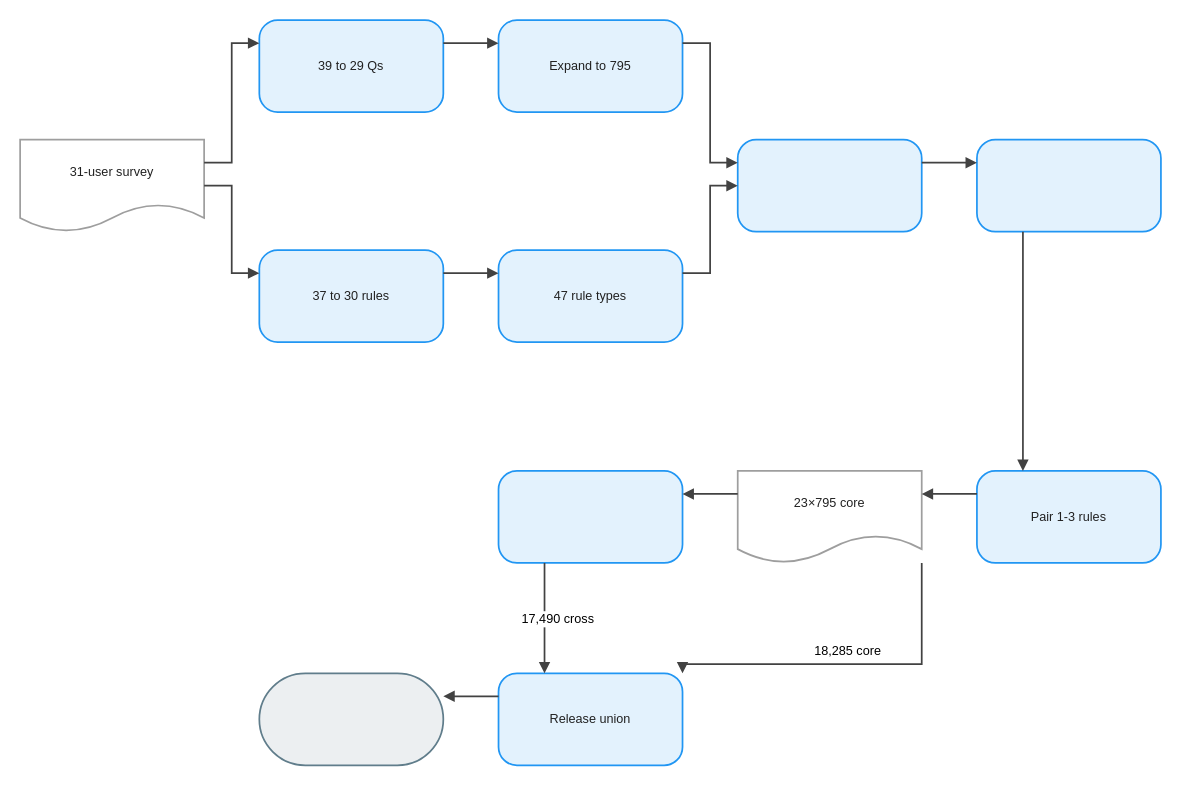
Image size: 1182x787. Some labels were removed from this diagram. The shapes that lost their labels are listed below. From the top down, each one's box as (x1, y1, x2, y2) in pixels, then its label:
(736, 138, 922, 232): 23-lang pass
(976, 138, 1161, 232): 3-round QC
(497, 470, 683, 563): 22×795 cross
(258, 672, 444, 766): 35,775 total
